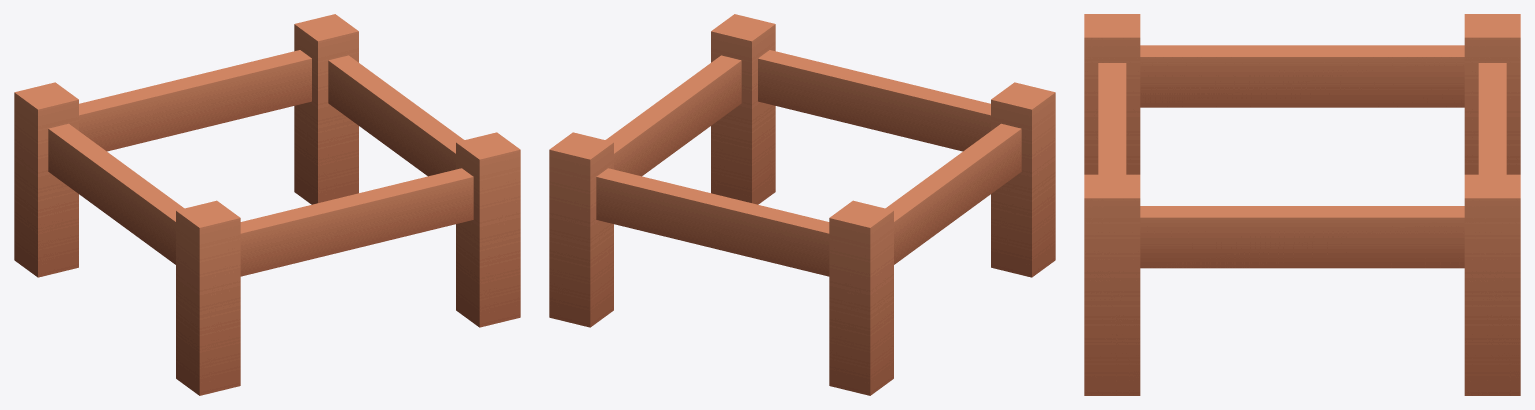
File: wood-structure.glb
3 renders of one model, left to right at view 1: azimuth 30°, elevation 25°; view 2: azimuth 150°, elevation 25°; view 3: azimuth 270°, elevation 25°, orthographic. The views are drawn at different scales.
Parts seen in each view (by area): view 1: wood-structure; view 2: wood-structure; view 3: wood-structure.
Part boxes in pixels (x1=…): wood-structure: x1=14, y1=14, x2=520, y2=395; wood-structure: x1=549, y1=14, x2=1055, y2=395; wood-structure: x1=1084, y1=14, x2=1520, y2=395.
Size of the model in its own units: 1 by 0.5 by 1.
Materials: 1 (1 with a texture image).
